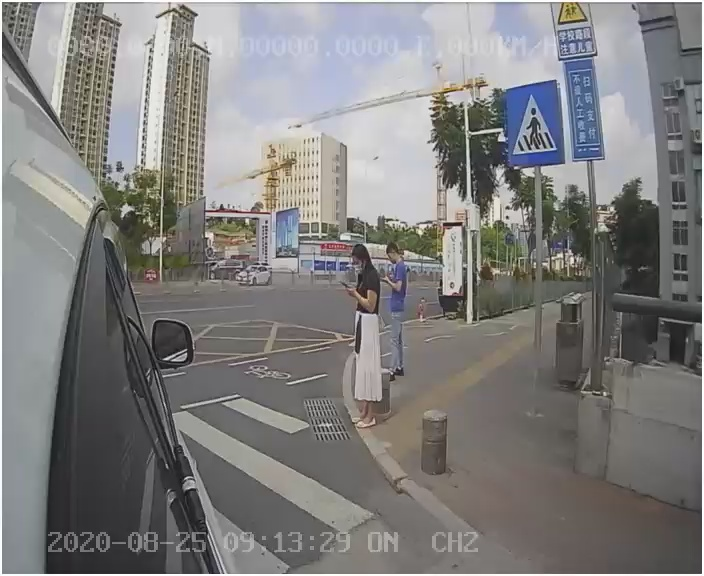person: (333, 244, 393, 438)
